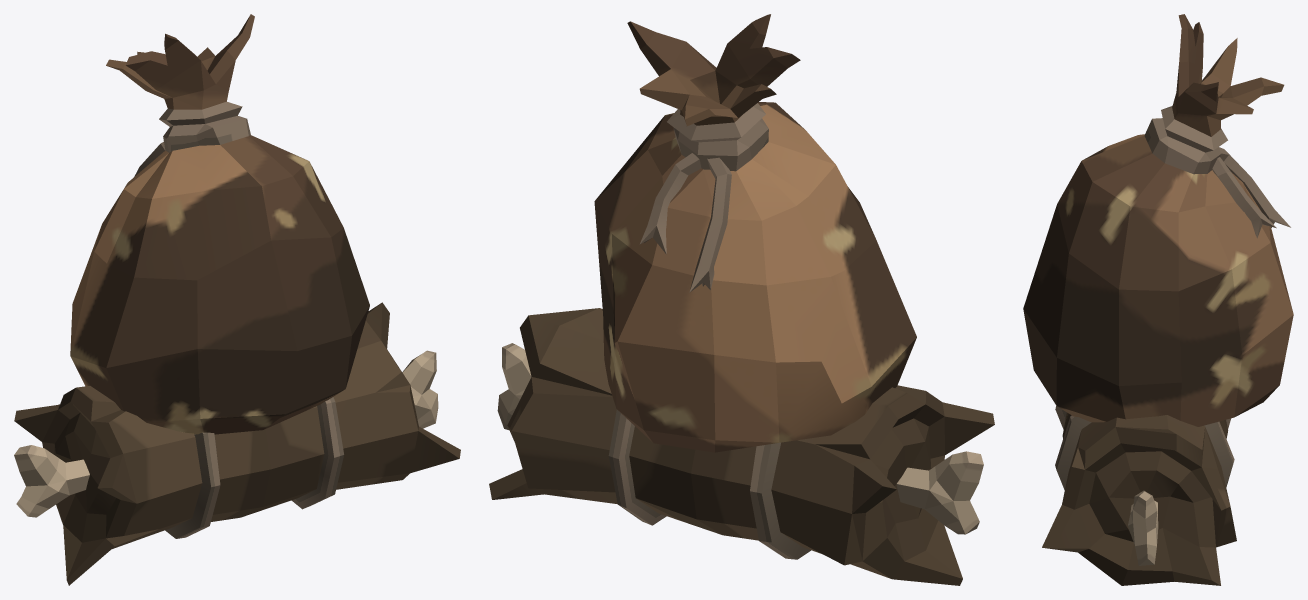
File: SM_Chr_Attach_Backpack_02 1.fbx
The picture shows the model from 3 angles, left to right: view 1: azimuth 30°, elevation 25°; view 2: azimuth 150°, elevation 25°; view 3: azimuth 270°, elevation 25°; orthographic projection. The views are drawn at different scales.
Visible parts, largest first — view 1: SM_Chr_Attach_Backpack_02; view 2: SM_Chr_Attach_Backpack_02; view 3: SM_Chr_Attach_Backpack_02.
Boxes of the visible parts, x1,y1,x2,y2 form: SM_Chr_Attach_Backpack_02: [14, 14, 460, 585]; SM_Chr_Attach_Backpack_02: [489, 14, 994, 585]; SM_Chr_Attach_Backpack_02: [1023, 14, 1293, 585].
Size of the model in its own units: 51.36 by 57.04 by 28.43.
